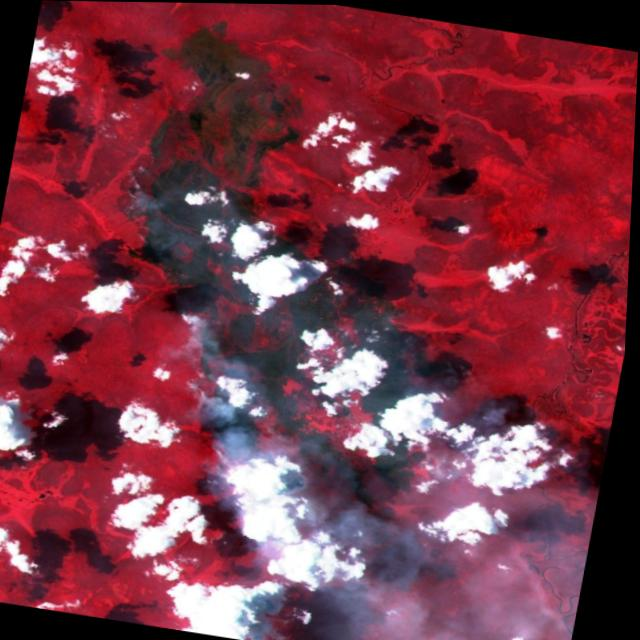fire: (181, 347, 253, 438), (113, 150, 183, 239), (148, 284, 226, 362)
